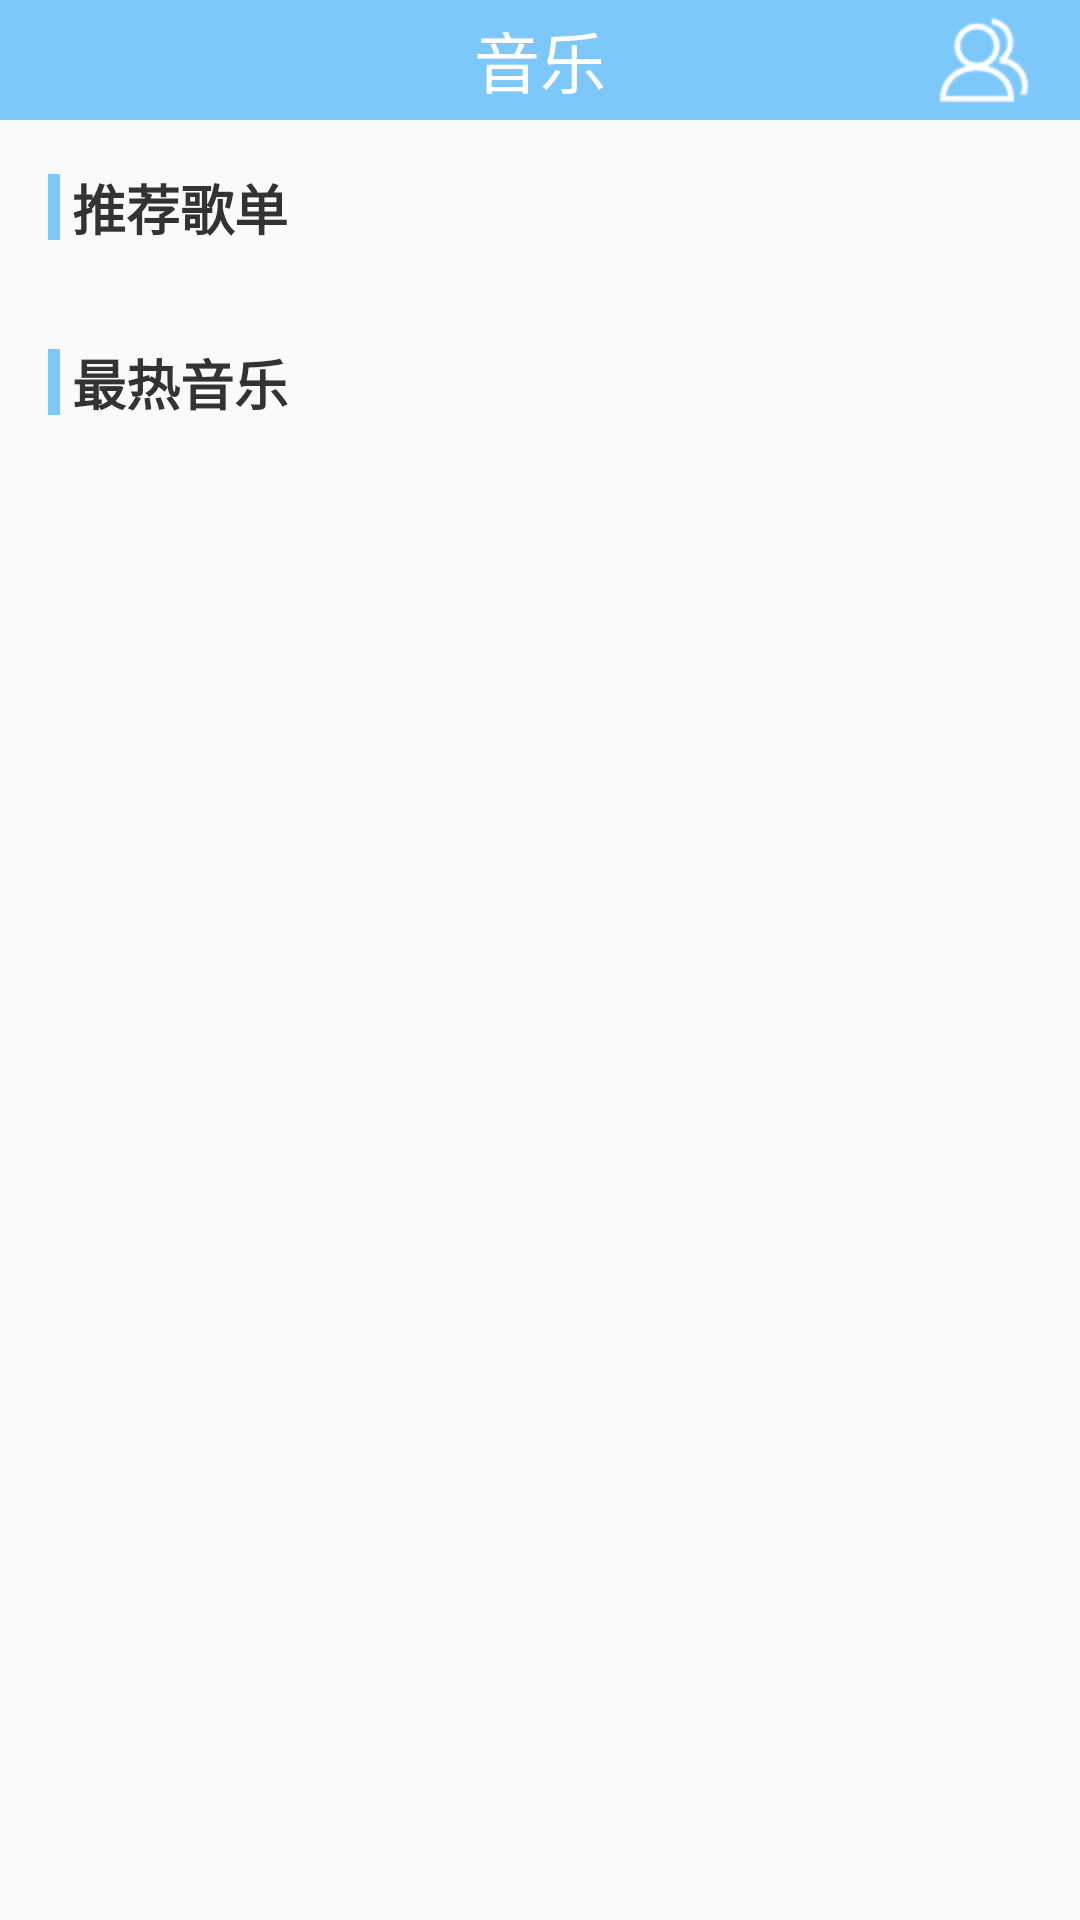

Where to tap for icons on this 1080px x 1920px app screen, as (x=x, y=y):
user: (x=984, y=60)
